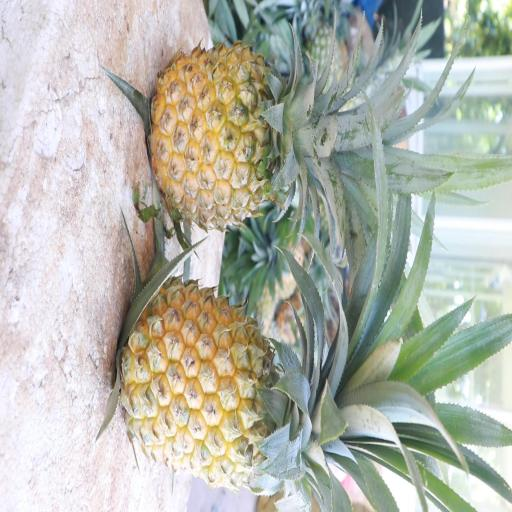Pineapple - v8 v1: (116, 278, 370, 496), (146, 39, 352, 238)
